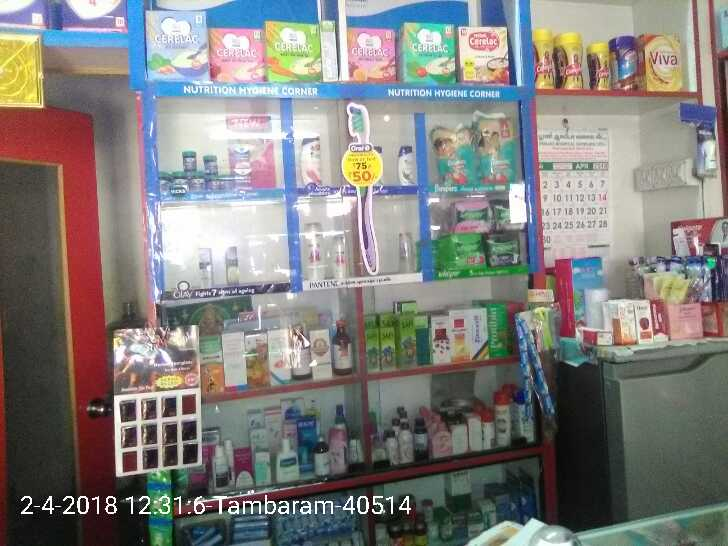vicks: (162, 149, 257, 195)
